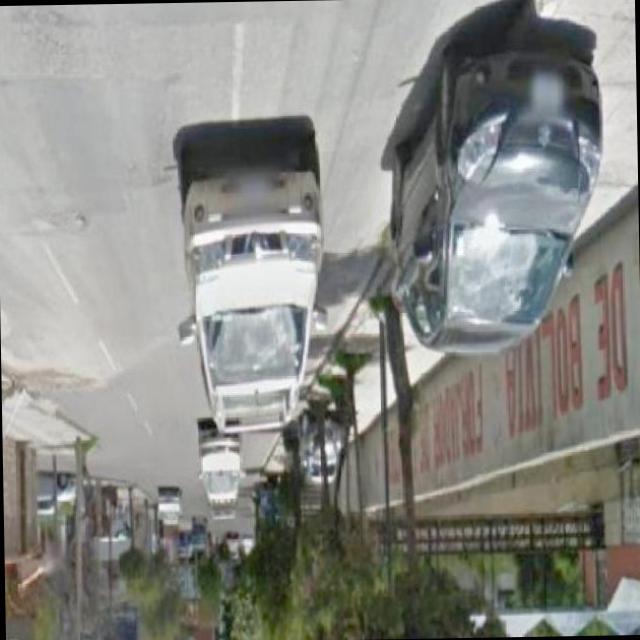car: (388, 35, 594, 359), (178, 130, 319, 433), (193, 418, 244, 508), (144, 481, 183, 526)
